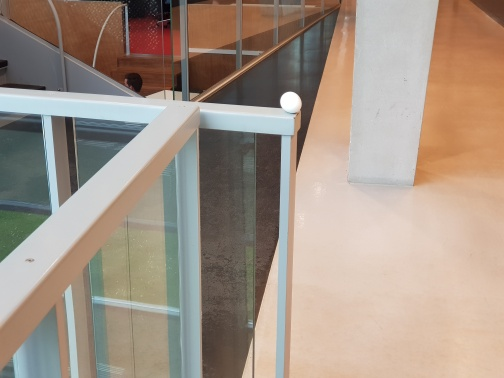egg: (279, 90, 304, 114)
